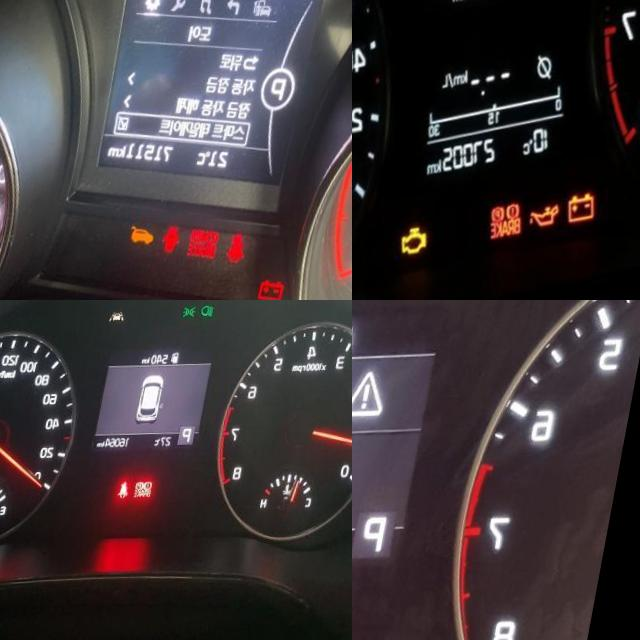Doors: (180, 226, 202, 255)
LaneCenteringOff: (119, 312, 135, 324)
Low beam: (210, 306, 224, 321)
SideLamp: (192, 309, 206, 319)
